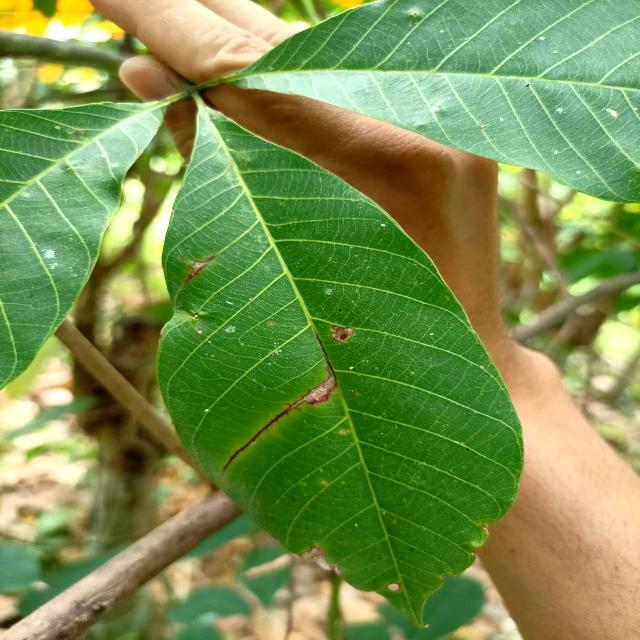Colletotrichum: (338, 308, 342, 312), (270, 322, 273, 324)
Corynespora: (222, 403, 302, 473), (312, 328, 338, 386), (186, 255, 216, 283)
Leaf-Blight: (300, 546, 343, 581), (302, 376, 336, 404)
